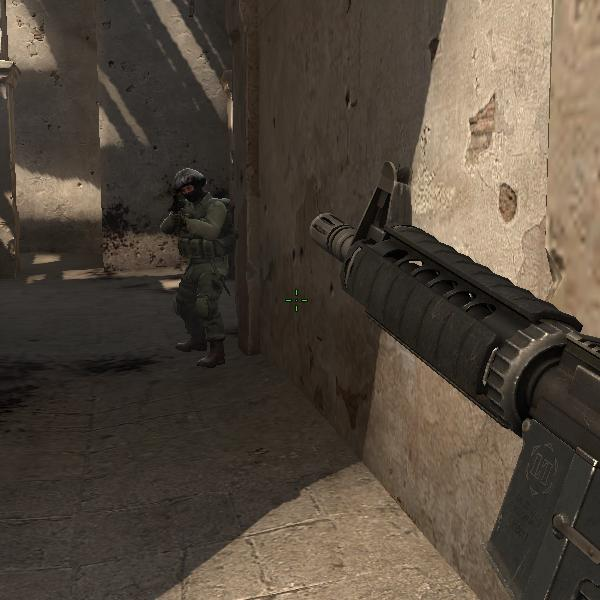ct_body: (159, 164, 242, 367)
ct_head: (172, 167, 209, 206)
